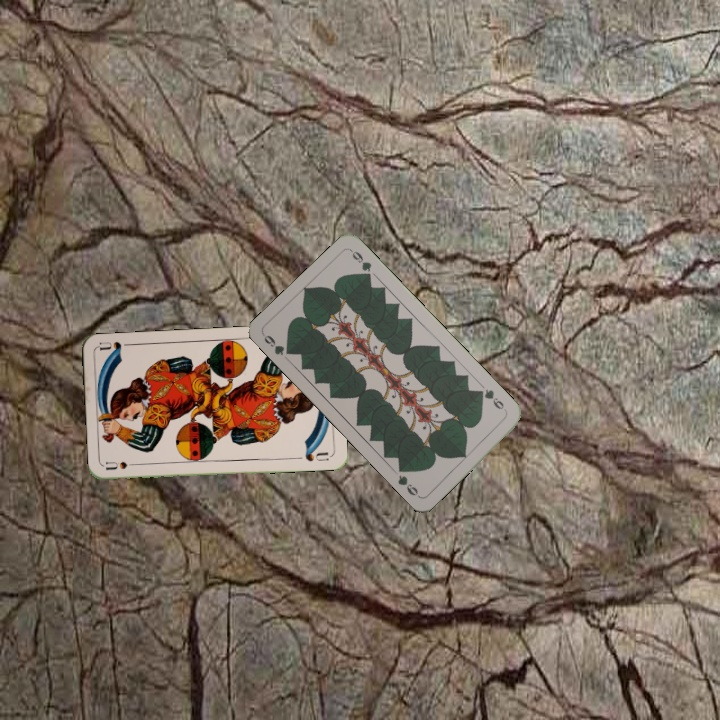G9: (474, 385, 509, 415), (259, 330, 296, 358)
SU: (102, 457, 143, 472)
